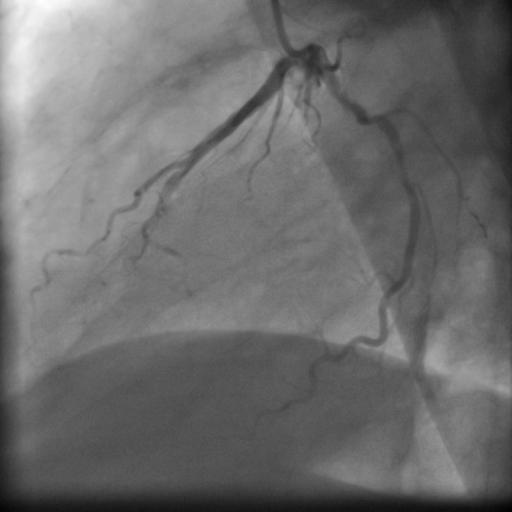Stenosis: (361, 100, 381, 135)
